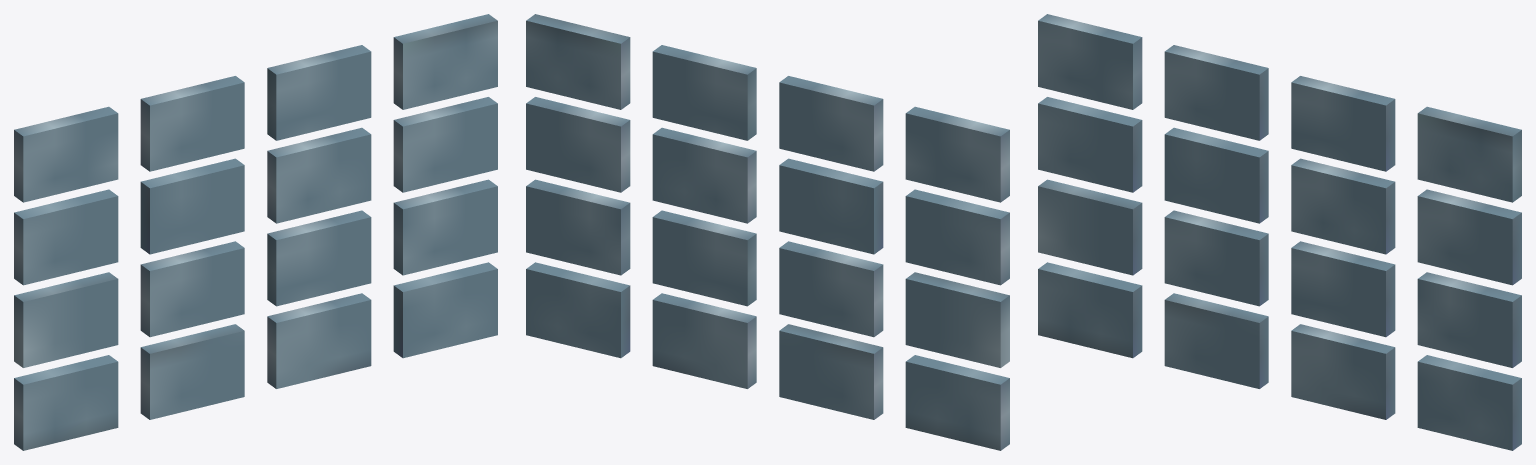
The model's file is Machine_Dispenser_Glass_B_00.fbx.
3 views of the same model, side by side, from view 1: azimuth 30°, elevation 25°; view 2: azimuth 150°, elevation 25°; view 3: azimuth 330°, elevation 25° (orthographic).
Parts seen in each view (by area): view 1: Machine_Dispenser_Glass_B_00; view 2: Machine_Dispenser_Glass_B_00; view 3: Machine_Dispenser_Glass_B_00.
Part boxes in pixels (left/top/right/bottom): Machine_Dispenser_Glass_B_00: left=14, top=14, right=497, bottom=450; Machine_Dispenser_Glass_B_00: left=526, top=14, right=1009, bottom=450; Machine_Dispenser_Glass_B_00: left=1038, top=14, right=1521, bottom=450.
Size of the model in its own units: 150 by 95 by 5.
